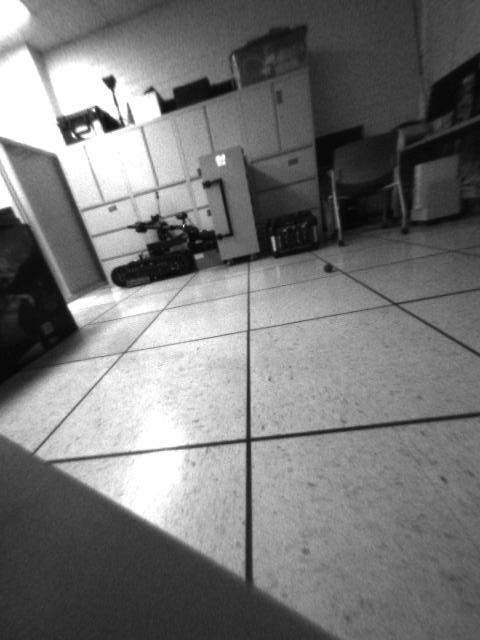dogtoy: (316, 254, 343, 277)
